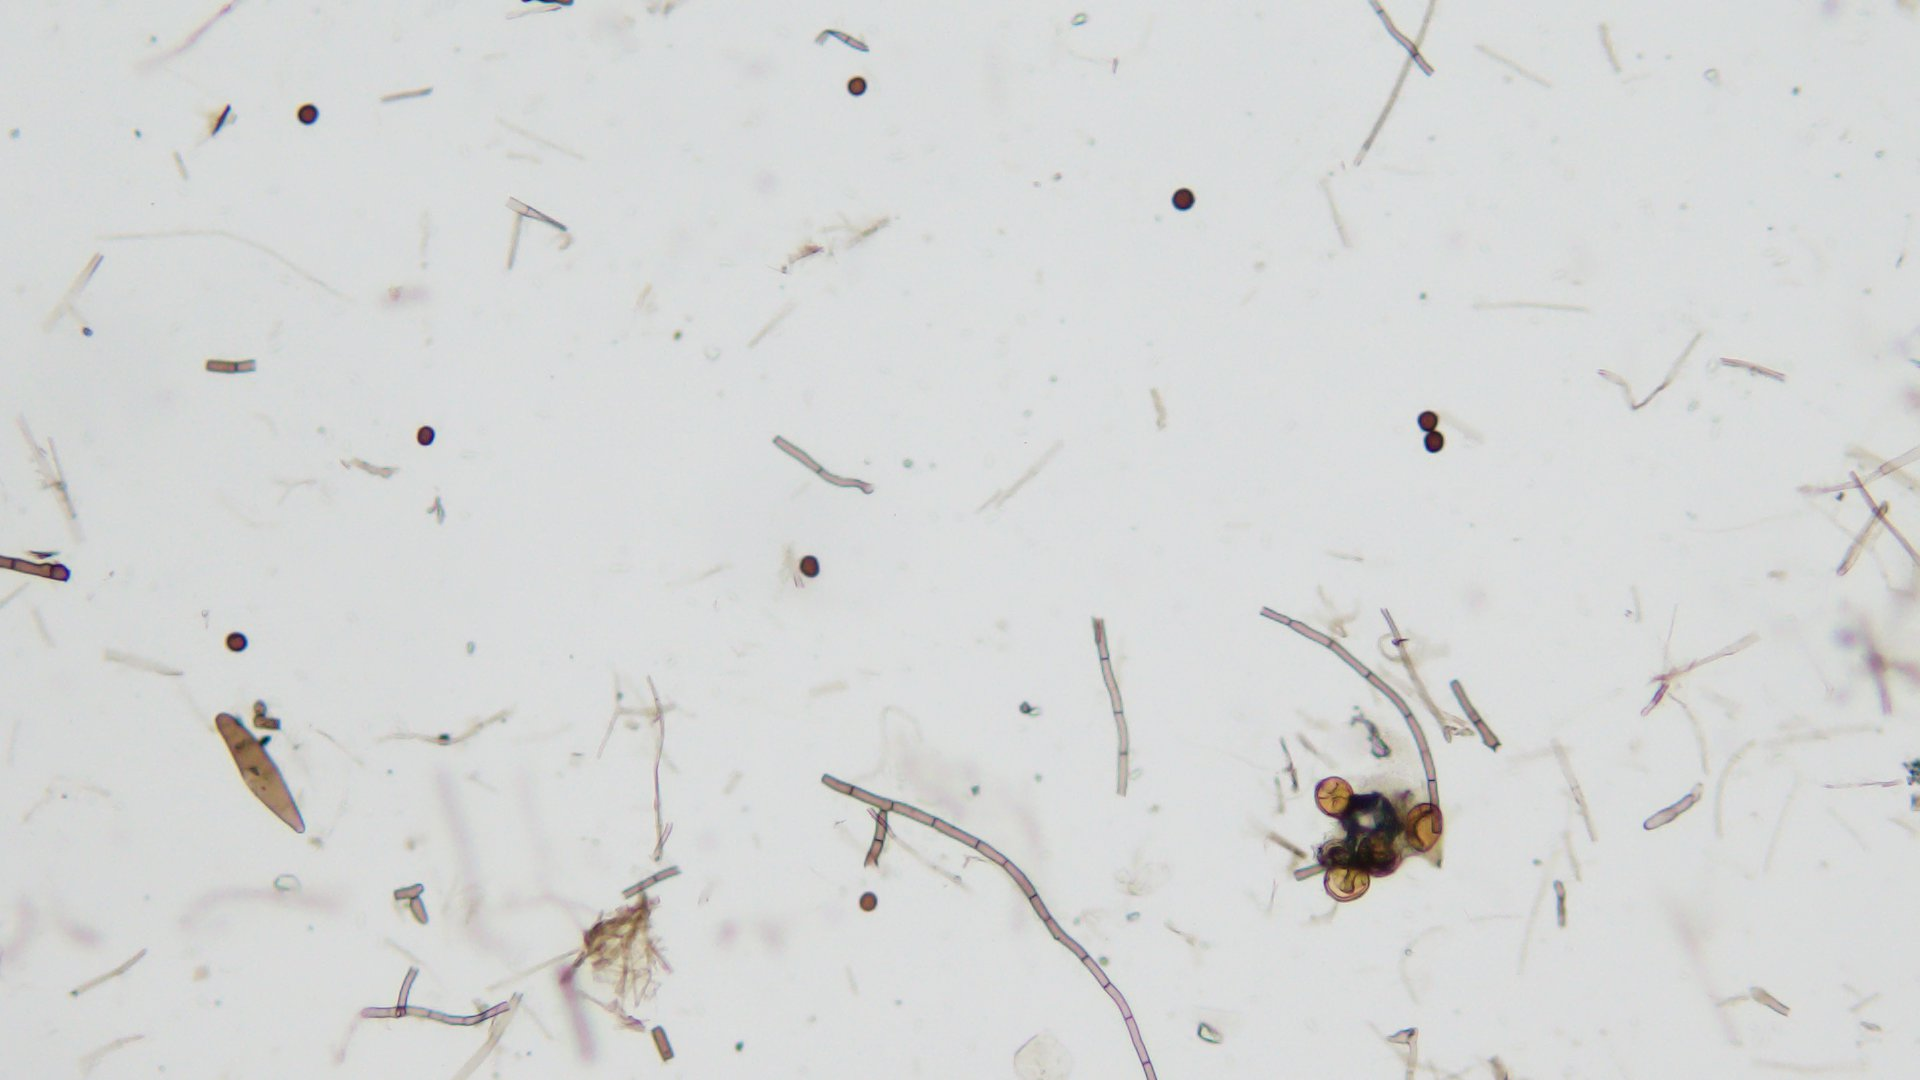dbb_spore: (214, 713, 307, 836)
shs_spore: (1418, 411, 1441, 434), (1424, 431, 1447, 454), (847, 74, 868, 98), (225, 633, 251, 653), (414, 427, 436, 447), (297, 104, 318, 124), (800, 556, 820, 578), (1174, 189, 1196, 207), (858, 891, 878, 910)
xb_spore: (1404, 802, 1445, 853), (1323, 862, 1375, 898), (1315, 781, 1354, 818)
